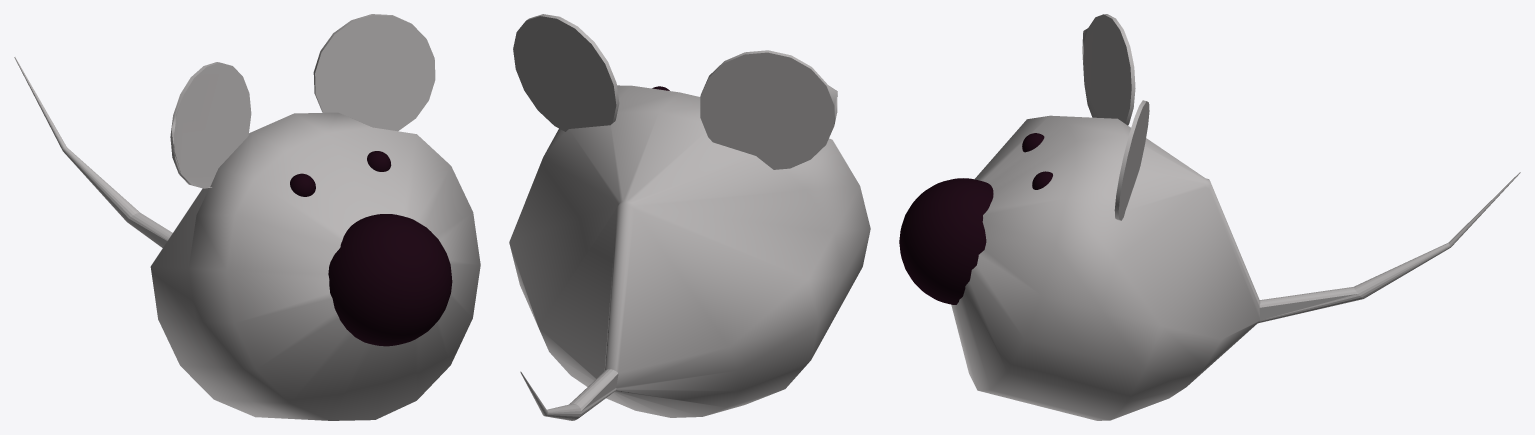
The model's file is MouseA.gltf.
The picture shows the model from 3 angles, left to right: view 1: azimuth 30°, elevation 25°; view 2: azimuth 150°, elevation 25°; view 3: azimuth 270°, elevation 25°; orthographic projection. The views are drawn at different scales.
Parts seen in each view (by area): view 1: Cylinder002, Sphere001, Sphere003; view 2: Cylinder002; view 3: Cylinder002, Sphere001.
Boxes of the visible parts, bbox=[...] form: Cylinder002: bbox=[14, 14, 480, 420]; Sphere001: bbox=[328, 214, 452, 346]; Sphere003: bbox=[290, 173, 315, 196]; Cylinder002: bbox=[509, 14, 870, 420]; Cylinder002: bbox=[951, 14, 1520, 420]; Sphere001: bbox=[899, 178, 993, 304].
Size of what is drawn, in the model's own units: 15.28 by 18.64 by 30.2.
